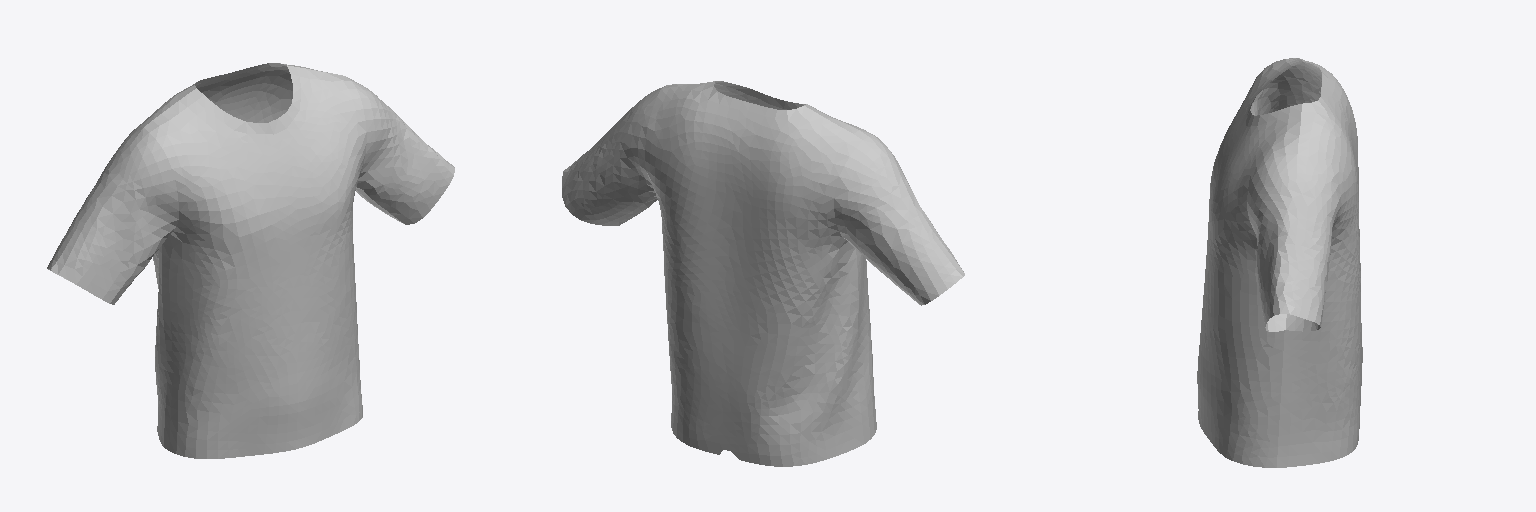
The model's file is tshirt.obj.
3 renders of one model, left to right at view 1: azimuth 30°, elevation 25°; view 2: azimuth 150°, elevation 25°; view 3: azimuth 270°, elevation 25°, orthographic.
Visible parts, largest first — view 1: tShirt_pd20_tri; view 2: tShirt_pd20_tri; view 3: tShirt_pd20_tri.
Part boxes in pixels (x1,y1,x2,y2): tShirt_pd20_tri: (47,63,454,458); tShirt_pd20_tri: (562,81,964,466); tShirt_pd20_tri: (1197,58,1362,467).
Bounding box in the file's own units: 76.56 × 63.08 × 27.35.